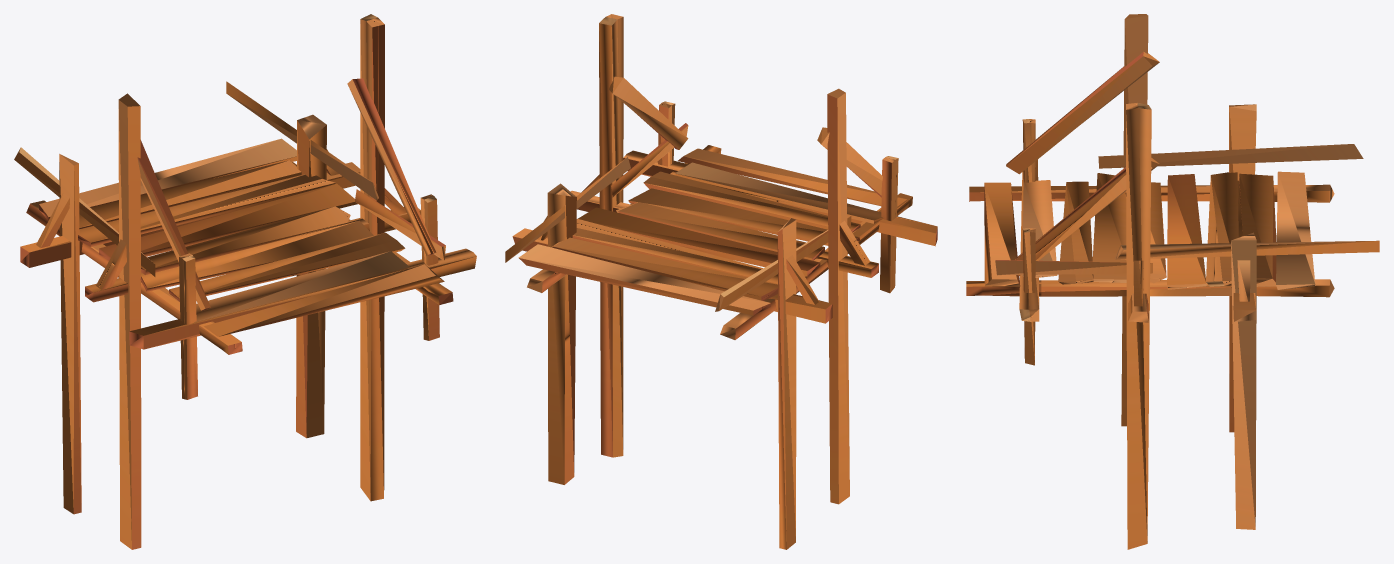
Rendered from GL-Manmade-06-LOD2.fbx.
The picture shows the model from 3 angles, left to right: view 1: azimuth 30°, elevation 25°; view 2: azimuth 150°, elevation 25°; view 3: azimuth 270°, elevation 25°; orthographic projection. The views are drawn at different scales.
Parts seen in each view (by area): view 1: GL_Manmade_06; view 2: GL_Manmade_06; view 3: GL_Manmade_06.
Boxes of the visible parts, left/top/right/bottom form: GL_Manmade_06: left=14, top=14, right=476, bottom=549; GL_Manmade_06: left=505, top=14, right=937, bottom=549; GL_Manmade_06: left=966, top=14, right=1379, bottom=549.
Bounding box in the file's own units: 1.25 × 1.65 × 1.4.
